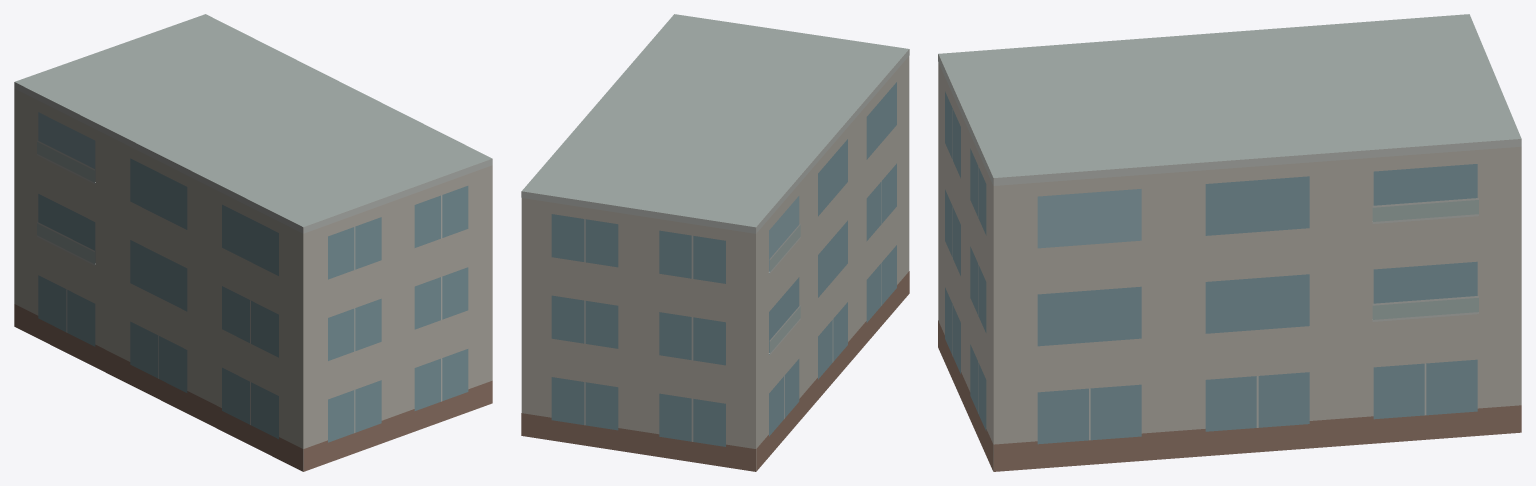
File: survey-upis-32708125.glb
3 views of the same model, side by side, from view 1: azimuth 30°, elevation 25°; view 2: azimuth 150°, elevation 25°; view 3: azimuth 270°, elevation 25° (orthographic). The views are drawn at different scales.
Visible parts, largest first — view 1: survey-upis-32708125.tmp; view 2: survey-upis-32708125.tmp; view 3: survey-upis-32708125.tmp.
Boxes of the visible parts, x1=… form: survey-upis-32708125.tmp: x1=14, y1=14, x2=492, y2=471; survey-upis-32708125.tmp: x1=521, y1=14, x2=909, y2=471; survey-upis-32708125.tmp: x1=938, y1=14, x2=1521, y2=471.
Size of the model in its own units: 10.97 by 9.15 by 16.48.
